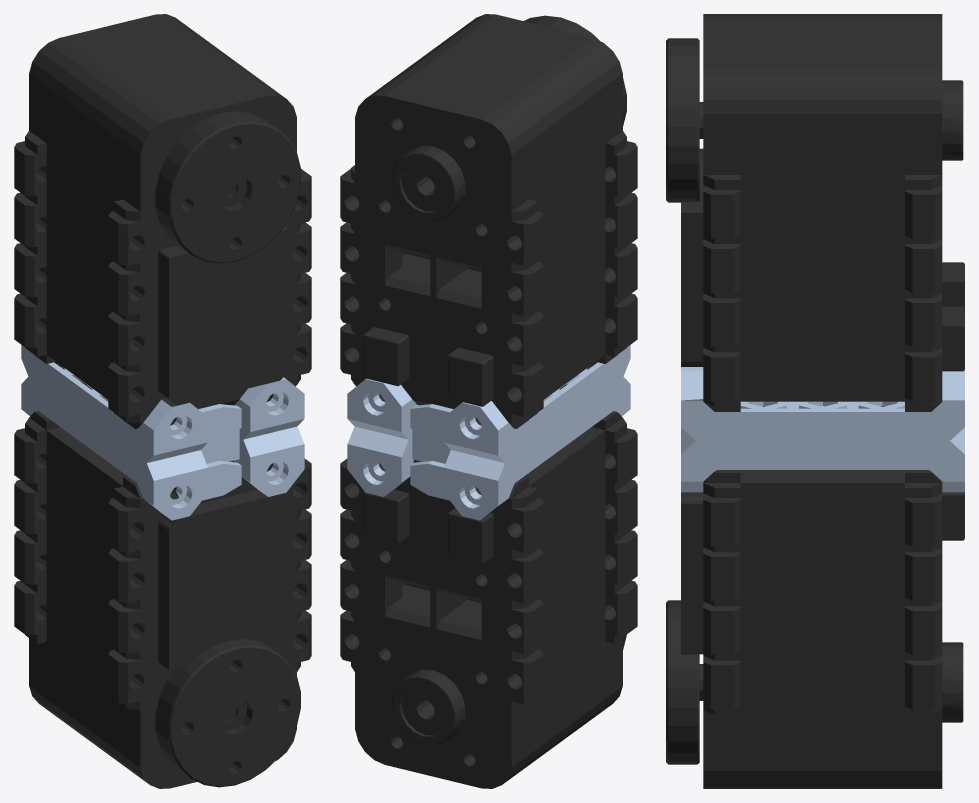
The model's file is lower_arm.dae.
The picture shows the model from 3 angles, left to right: view 1: azimuth 30°, elevation 25°; view 2: azimuth 150°, elevation 25°; view 3: azimuth 270°, elevation 25°; orthographic projection. The views are drawn at different scales.
Visible parts, largest first — view 1: lower_arm; view 2: lower_arm; view 3: lower_arm.
Part boxes in pixels (left/top/right/bottom): lower_arm: left=14, top=14, right=311, bottom=788; lower_arm: left=340, top=14, right=637, bottom=788; lower_arm: left=666, top=14, right=964, bottom=788.
Bounding box in the file's own units: 0.032 × 0.04 × 0.106.
